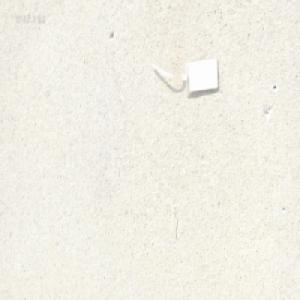LuggageTag: (150, 54, 220, 95)
